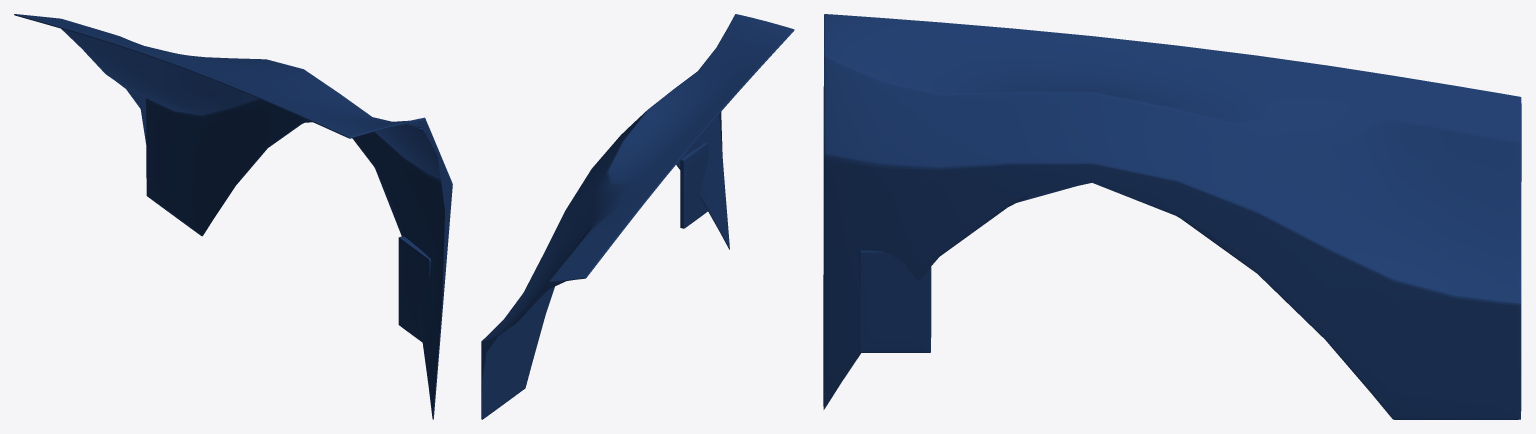
The model's file is fender_fl.glb.
The picture shows the model from 3 angles, left to right: view 1: azimuth 30°, elevation 25°; view 2: azimuth 150°, elevation 25°; view 3: azimuth 270°, elevation 25°; orthographic projection. The views are drawn at different scales.
Parts seen in each view (by area): view 1: GEO_Fender_FL; view 2: GEO_Fender_FL; view 3: GEO_Fender_FL.
Boxes of the visible parts, <box> form: GEO_Fender_FL: <box>14,14,452,419</box>; GEO_Fender_FL: <box>481,14,794,419</box>; GEO_Fender_FL: <box>823,14,1521,419</box>.
Size of the model in its own units: 0.3685 by 0.7581 by 1.36.
